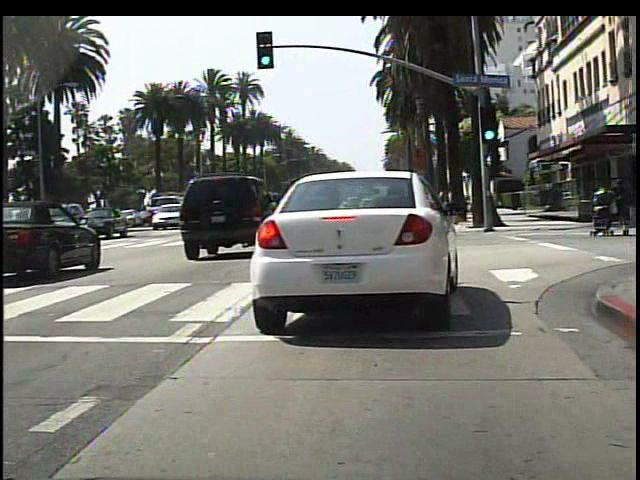person: (585, 163, 633, 242)
